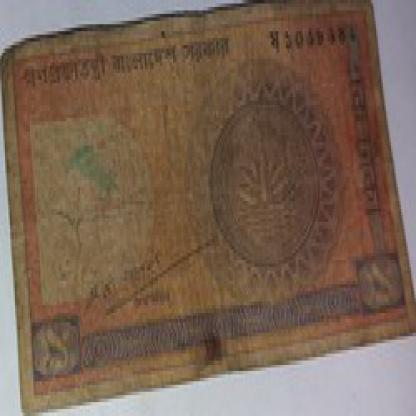One Taka: (343, 55, 386, 222), (359, 257, 406, 312), (35, 319, 78, 378)
